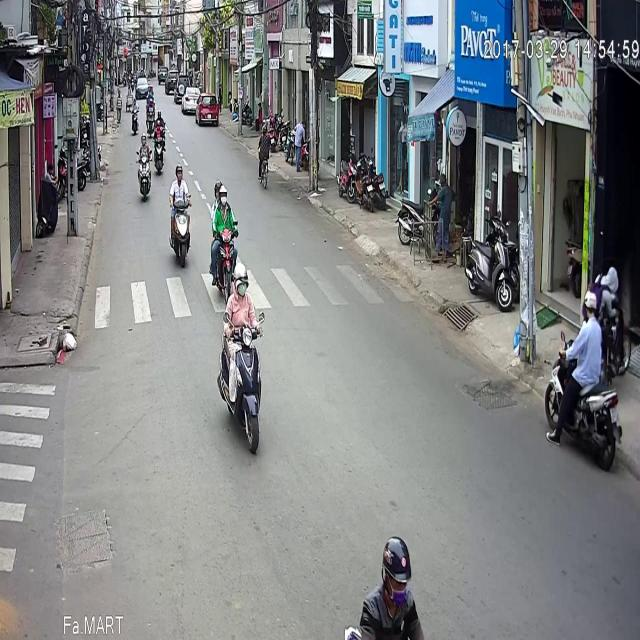bicycle: (256, 66, 272, 132)
car: (194, 35, 218, 70)
motorcycle: (546, 223, 622, 412), (217, 207, 265, 398), (208, 120, 240, 247), (168, 106, 192, 212), (136, 75, 152, 144), (152, 62, 164, 116), (146, 39, 156, 80), (130, 39, 139, 77)
